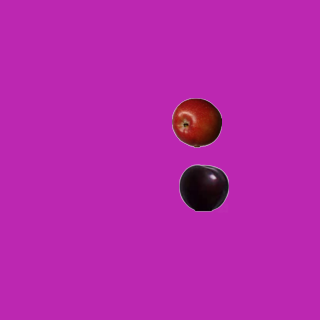Apple Braeburn: (171, 97, 221, 147)
Cherry Wax Black: (178, 162, 228, 212)
